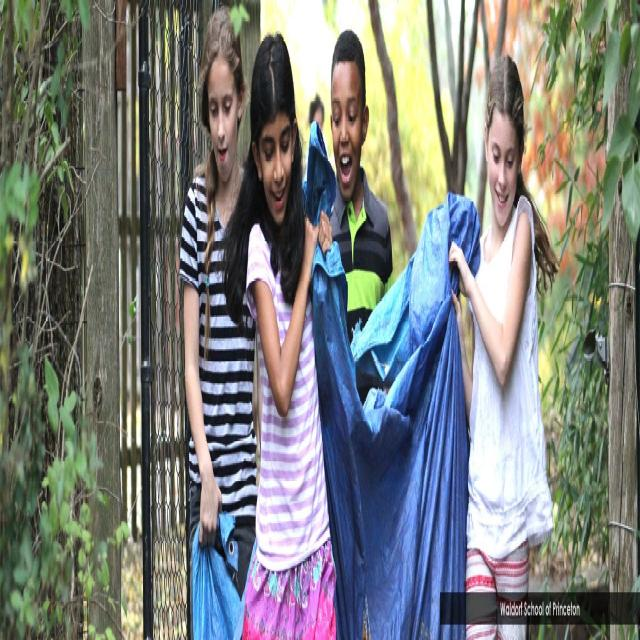body: (444, 37, 562, 638), (223, 31, 337, 638), (178, 6, 262, 640), (330, 28, 394, 346), (304, 88, 328, 194)
